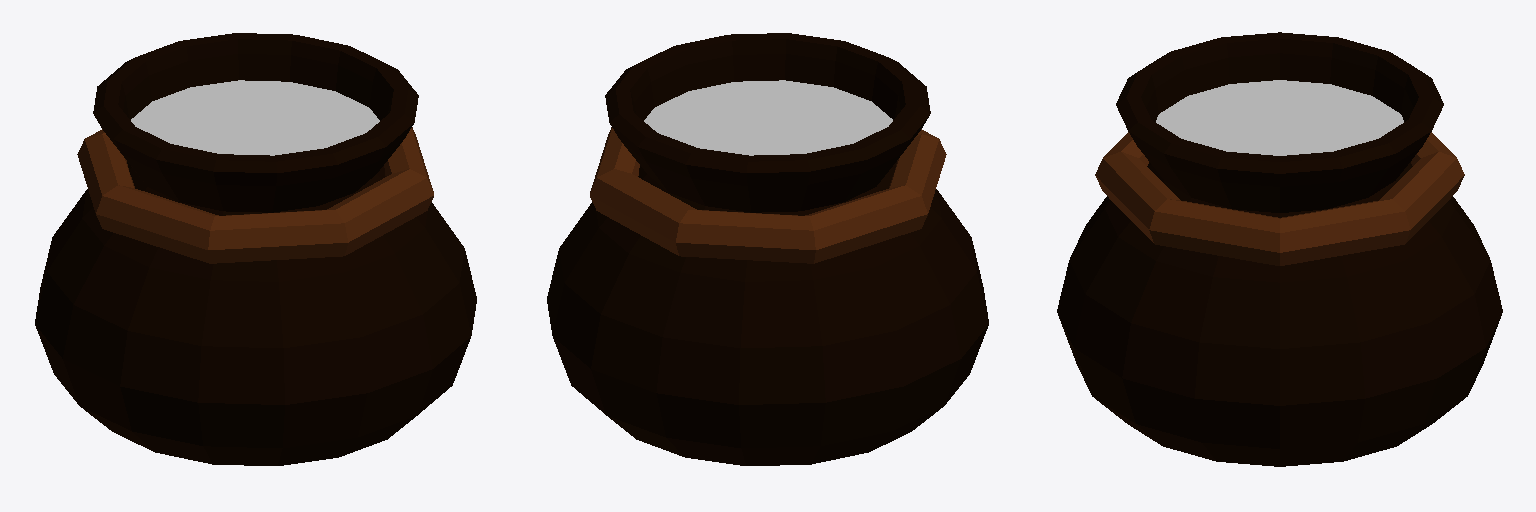
File: seed_pouch.obj
3 views of the same model, side by side, from view 1: azimuth 30°, elevation 25°; view 2: azimuth 150°, elevation 25°; view 3: azimuth 270°, elevation 25° (orthographic).
Parts seen in each view (by area): view 1: Cylinder, Torus.001; view 2: Cylinder, Torus.001; view 3: Cylinder, Torus.001.
Boxes of the visible parts, <box> form: Cylinder: <box>35,33,476,465</box>; Torus.001: <box>77,127,433,263</box>; Cylinder: <box>547,33,988,465</box>; Torus.001: <box>590,127,946,263</box>; Cylinder: <box>1057,32,1502,466</box>; Torus.001: <box>1095,132,1464,265</box>.
Size of the model in its own units: 2.24 by 1.76 by 2.24.